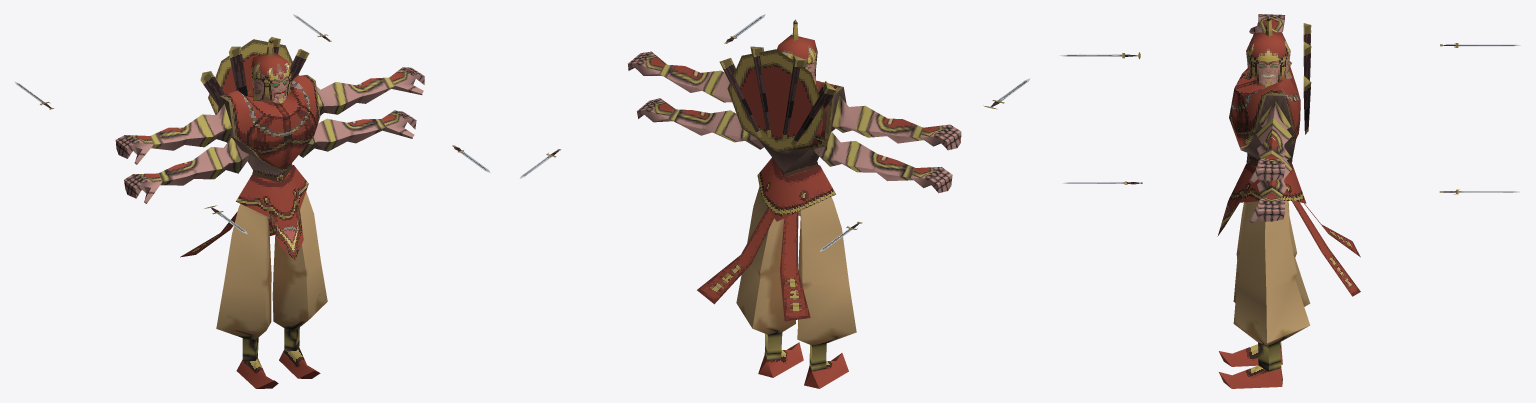
The picture shows the model from 3 angles, left to right: view 1: azimuth 30°, elevation 25°; view 2: azimuth 150°, elevation 25°; view 3: azimuth 270°, elevation 25°; orthographic projection. The views are drawn at different scales.
Parts seen in each view (by area): view 1: L2sword_2, L1sword_2, realb28_1, realb28_4, realb28; view 2: L2sword_2, realb28_1, L1sword_2, realb28, realb28_4; view 3: L2sword_2, L1sword_2, realb28_4, realb28_1, realb28.
Boxes of the visible parts, left/top/right/bottom form: L2sword_2: left=115, top=37, right=424, bottom=361; L1sword_2: left=180, top=75, right=320, bottom=388; realb28_1: left=208, top=39, right=308, bottom=260; realb28_4: left=251, top=38, right=291, bottom=104; realb28: left=200, top=39, right=309, bottom=106; L2sword_2: left=628, top=46, right=961, bottom=371; realb28_1: left=727, top=49, right=835, bottom=221; L1sword_2: left=697, top=80, right=848, bottom=388; realb28: left=719, top=47, right=836, bottom=145; realb28_4: left=777, top=19, right=817, bottom=84; L2sword_2: left=1233, top=14, right=1310, bottom=371; L1sword_2: left=1219, top=64, right=1360, bottom=388; realb28_4: left=1244, top=15, right=1292, bottom=87; realb28_1: left=1217, top=164, right=1306, bottom=236; realb28: left=1303, top=25, right=1311, bottom=134.
Bounding box in the file's own units: 14.79 × 15.45 × 18.17.
5 materials, 5 textured.
